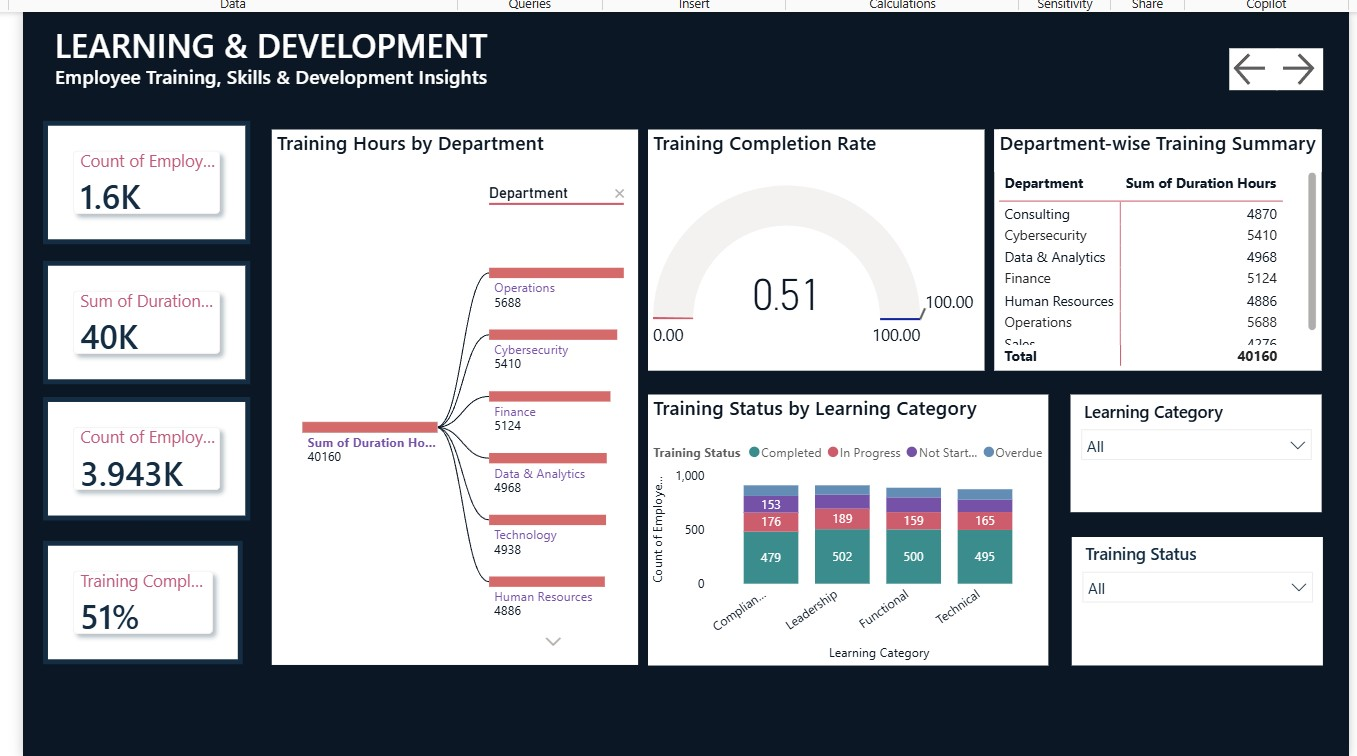

What the dashboard file says about the page in this screenshot:
{"tool":"powerbi","page":{"name":"Learning & Development Analysis","canvas":[1280,720],"ordinal":3},"visuals":[{"type":"textbox","title":"LEARNING & DEVELOPMENT","box":[19.3,9.7,440.4,39.8],"z":0},{"type":"textbox","title":"Employee Training, Skills & Development Insights","box":[19.3,49.5,440.4,26.5],"z":1000},{"type":"cardVisual","fields":{"Data":["Count(Learning_Raw.Employee ID)"]},"box":[19.3,105,200.3,119.4],"z":2000},{"type":"cardVisual","fields":{"Data":["Sum(Learning_Raw.Duration Hours)"]},"box":[19.3,240.1,200.3,119.4],"z":3000},{"type":"cardVisual","fields":{"Data":["CountNonNull(Learning_Raw.Employee ID)"]},"box":[19.3,371.6,200.3,119.4],"z":4000},{"type":"cardVisual","fields":{"Data":["Learning_Raw.Training Completion Rate (%)"]},"box":[19.3,510.3,193,119.4],"z":5000},{"type":"decompositionTreeVisual","title":"Training Hours by Department","fields":{"Analyze":["Sum(Learning_Raw.Duration Hours)"],"ExplainBy":["Employee_Master_Raw.Department"]},"box":[239.9,113.6,353.5,516.8],"z":6000},{"type":"gauge","title":"Training Completion Rate","fields":{"Y":["Learning_Raw.Training Completion Rate (%)"]},"box":[603.2,113.4,324.5,232.8],"z":7000},{"type":"pivotTable","title":"Department-wise Training Summary","fields":{"Rows":["Employee_Master_Raw.Department"],"Values":["Sum(Learning_Raw.Duration Hours)"]},"box":[937.4,113.4,316.1,232.8],"z":8000},{"type":"columnChart","title":"Training Status by Learning Category","fields":{"Category":["Learning_Raw.Learning Category"],"Y":["Count(Learning_Raw.Employee ID)"],"Series":["Learning_Raw.Training Status"]},"box":[603.6,368.8,386.7,261.6],"z":9000},{"type":"slicer","fields":{"Values":["Learning_Raw.Learning Category"]},"box":[1010.7,368.8,242.5,113.6],"z":10000},{"type":"slicer","fields":{"Values":["Learning_Raw.Training Status"]},"box":[1012,506.6,242.5,123.8],"z":11000},{"type":"actionButton","box":[1210.3,34.7,44.8,40.5],"z":12000},{"type":"actionButton","box":[1164,34.7,46.3,40.5],"z":13000}]}

Visuals, with their boxes in screenshot pixels (x1, y1, x2, y2):
"LEARNING & DEVELOPMENT" textbox: {"x1": 41, "y1": 21, "x2": 497, "y2": 62}
"Employee Training, Skills & Development Insights" textbox: {"x1": 41, "y1": 62, "x2": 497, "y2": 89}
cardVisual - Count(Learning_Raw.Employee ID): {"x1": 41, "y1": 119, "x2": 249, "y2": 243}
cardVisual - Sum(Learning_Raw.Duration Hours): {"x1": 41, "y1": 259, "x2": 249, "y2": 383}
cardVisual - CountNonNull(Learning_Raw.Employee ID): {"x1": 41, "y1": 396, "x2": 249, "y2": 519}
cardVisual - Learning_Raw.Training Completion Rate (%): {"x1": 41, "y1": 539, "x2": 241, "y2": 663}
"Training Hours by Department" decompositionTreeVisual: {"x1": 270, "y1": 128, "x2": 636, "y2": 664}
"Training Completion Rate" gauge: {"x1": 646, "y1": 128, "x2": 982, "y2": 369}
"Department-wise Training Summary" pivotTable: {"x1": 992, "y1": 128, "x2": 1320, "y2": 369}
"Training Status by Learning Category" columnChart: {"x1": 646, "y1": 393, "x2": 1047, "y2": 664}
slicer - Learning_Raw.Learning Category: {"x1": 1068, "y1": 393, "x2": 1319, "y2": 510}
slicer - Learning_Raw.Training Status: {"x1": 1069, "y1": 535, "x2": 1321, "y2": 664}
actionButton: {"x1": 1275, "y1": 47, "x2": 1321, "y2": 88}
actionButton: {"x1": 1227, "y1": 47, "x2": 1275, "y2": 88}
